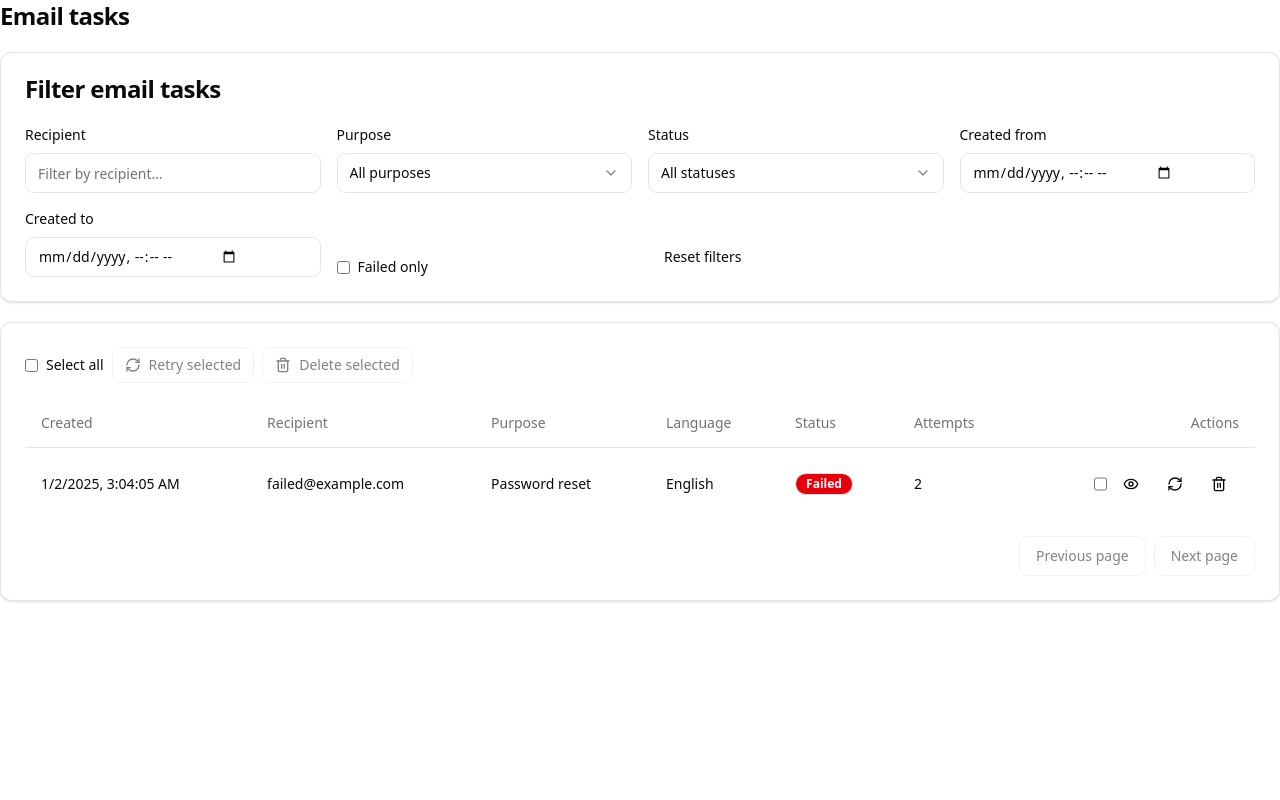
Scenario: email tasks page › filters failed tasks and retries a selected task without exposing message content
This screenshot has width=1280, height=800.
Expected: the text "failed@example.com" is shown, [251,447,475,520]
Click the checkbox labelled "Select all": (32,365) [25,358,38,372]
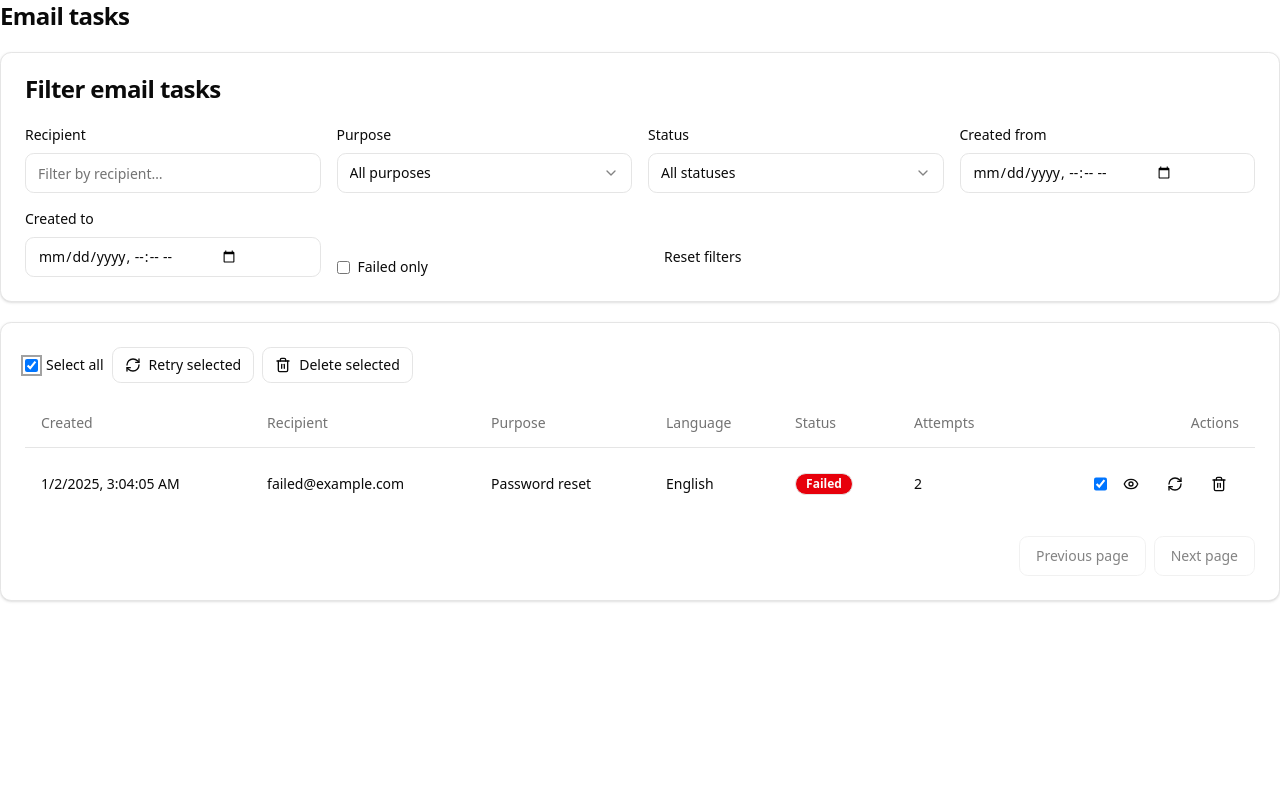
Click the button "Retry selected": (183,365) [112,347,254,383]
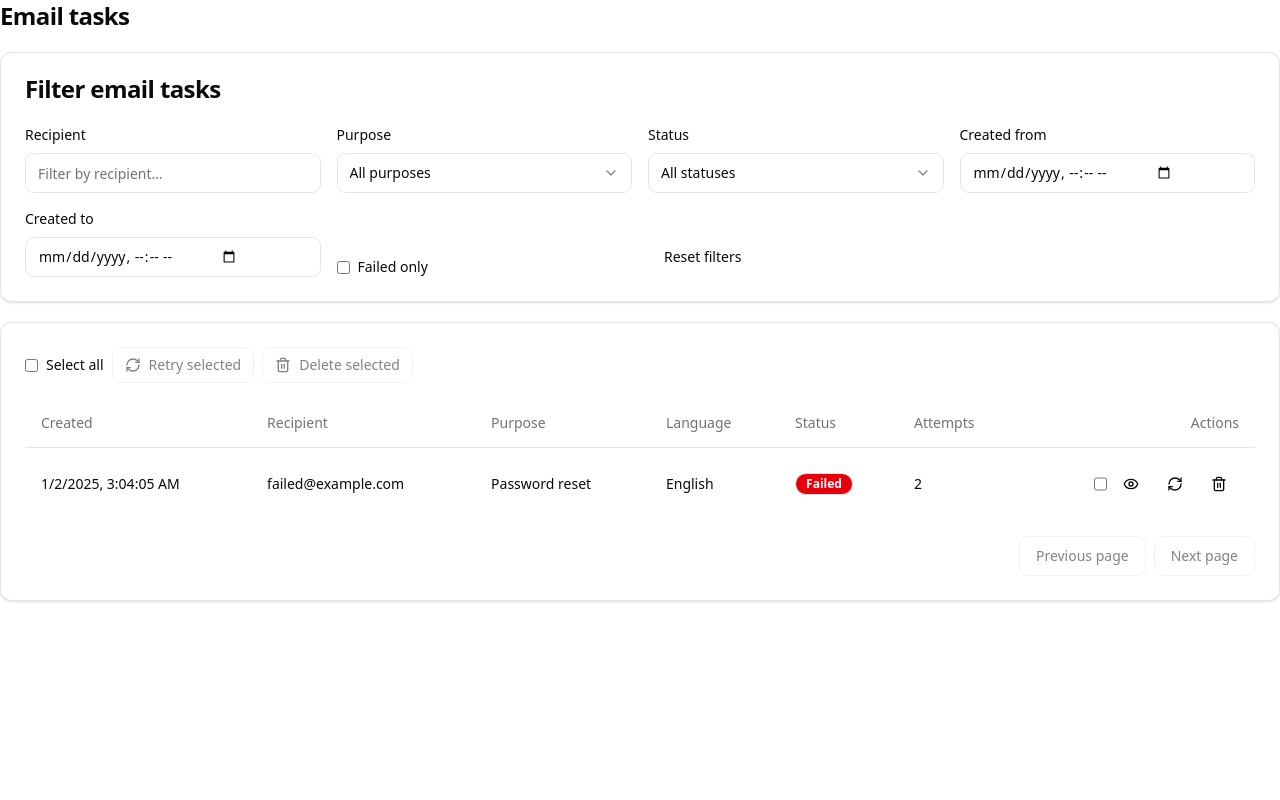
Expected: the text "failed@example.com" is shown, [251,447,475,520]
Expected: the button "Retry selected" is disabled, [112,347,254,383]
Click the button named "View details": (1131,484) [1111,464,1151,504]
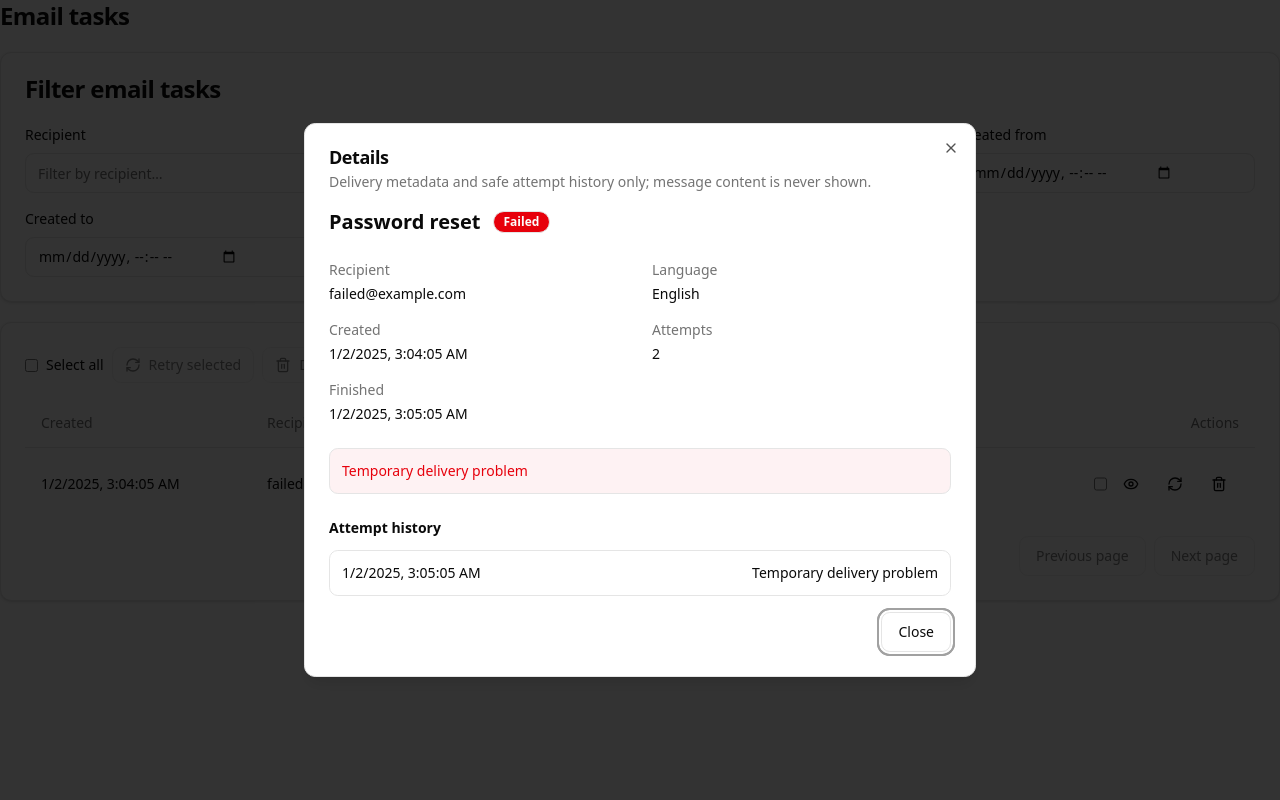
Expected: the text "failed@example.com" is shown, [329,284,466,303]
